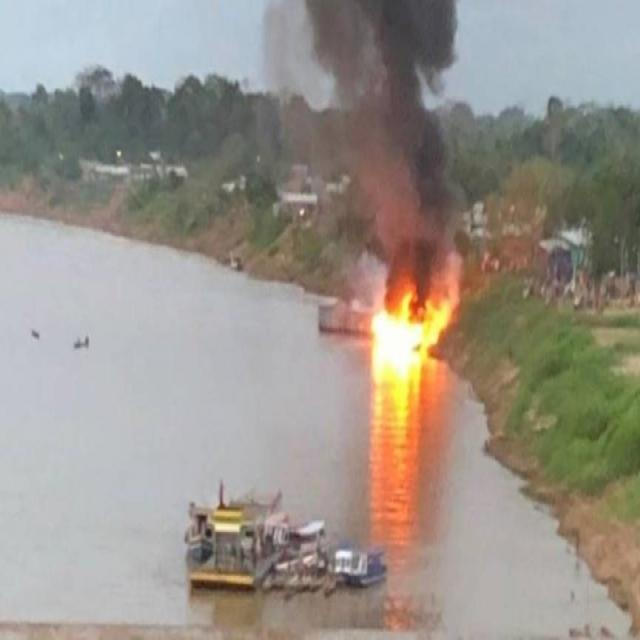Fire: (372, 305, 434, 350)
Smoke: (356, 114, 438, 238), (318, 8, 417, 105)
